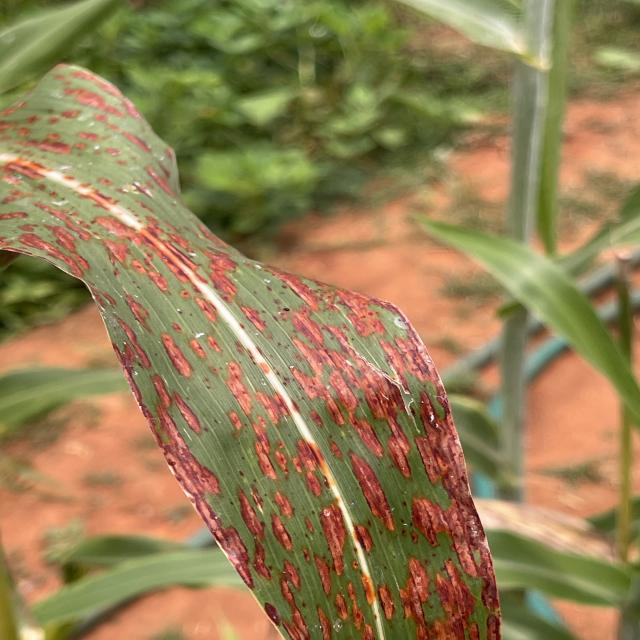millet_rust: (0, 64, 501, 640)
